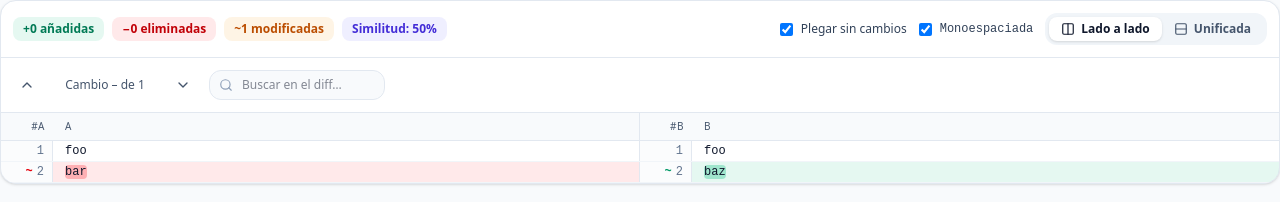
Test: DiffViewer › el buscador cuenta coincidencias
This screenshot has width=1280, height=202.
Type "ba" into the search field named "Buscar en las diferencias" at (297, 85), box [209, 70, 385, 100]
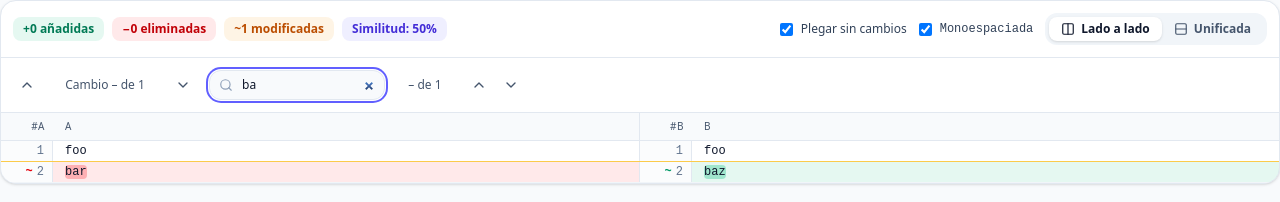
Result: the text "– de 1" is shown at [408, 76, 442, 93]
Press Enter
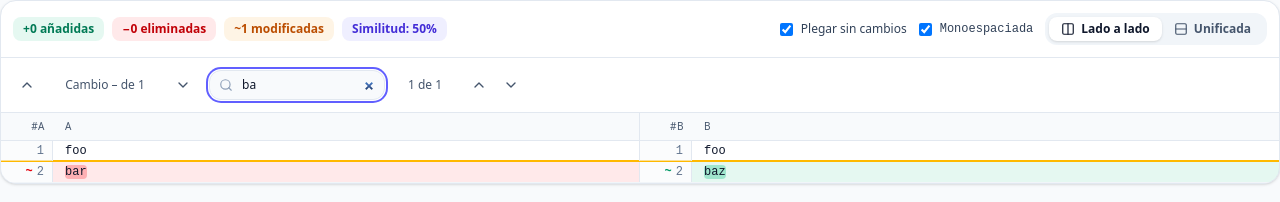
Result: the text "1 de 1" is shown at [408, 76, 442, 93]
Replace the text in the search field named "Buscar en las diferencias" with "zzz" at (297, 85), box [209, 70, 385, 100]
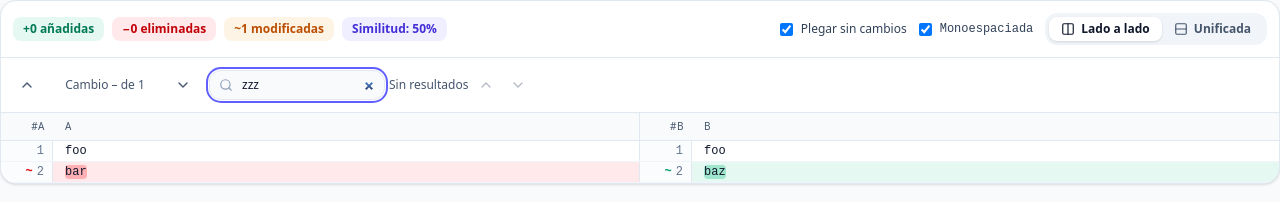
Result: the text "Sin resultados" is shown at [389, 77, 468, 93]
